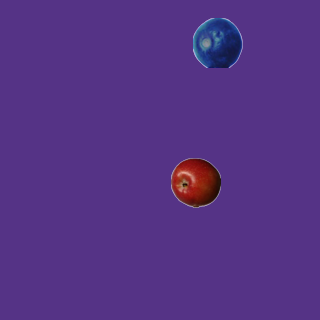Apple Braeburn: (170, 157, 220, 207)
Huckleberry: (192, 17, 242, 67)
